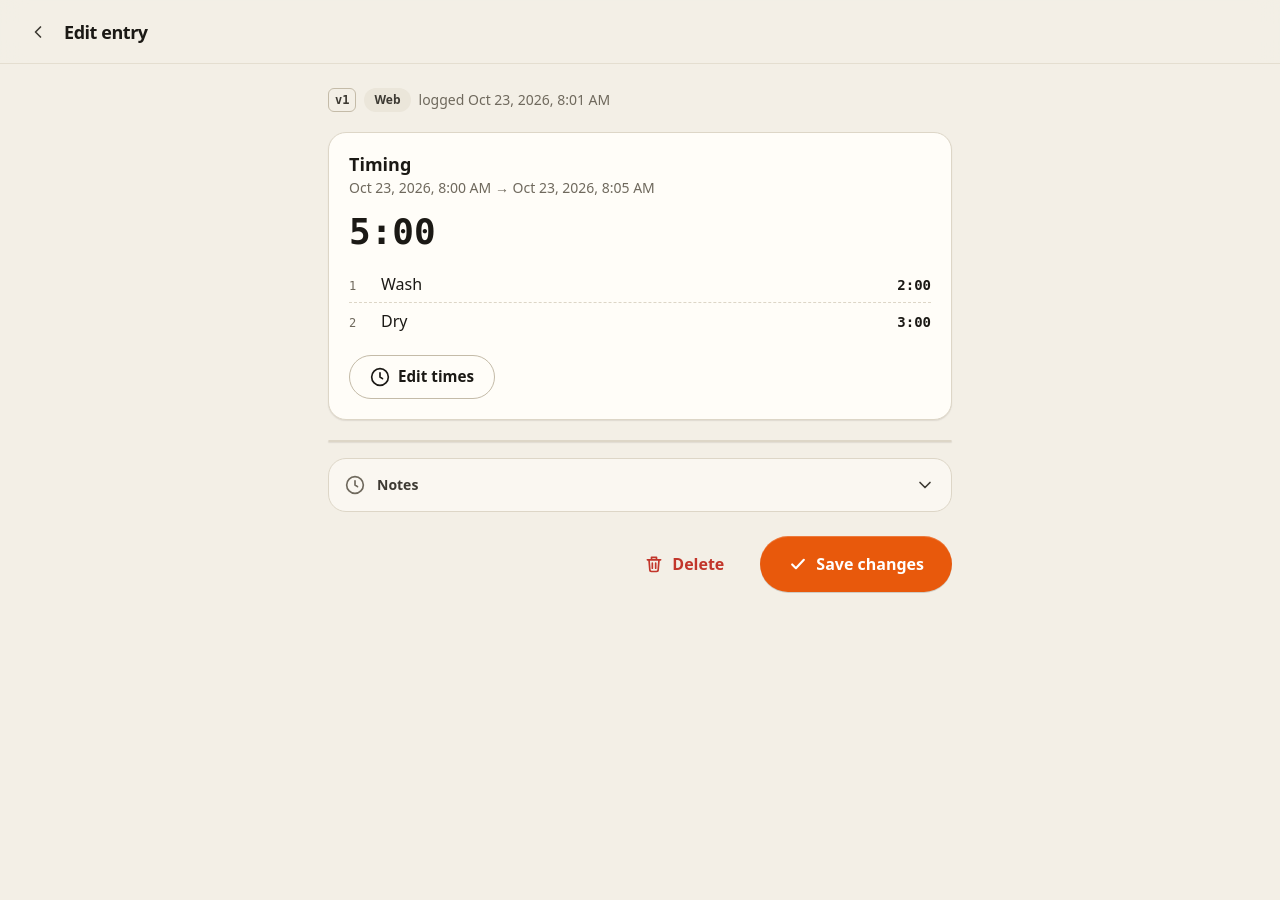
Test: EntryEditPage Edit times › a newer revision fetched while the sheet is open stops saving, with no 409
Expected: the text with test id "run-total" reads "5:00", [349,210,436,252]
Click the button "Edit times": (422, 376) [349,354,495,398]
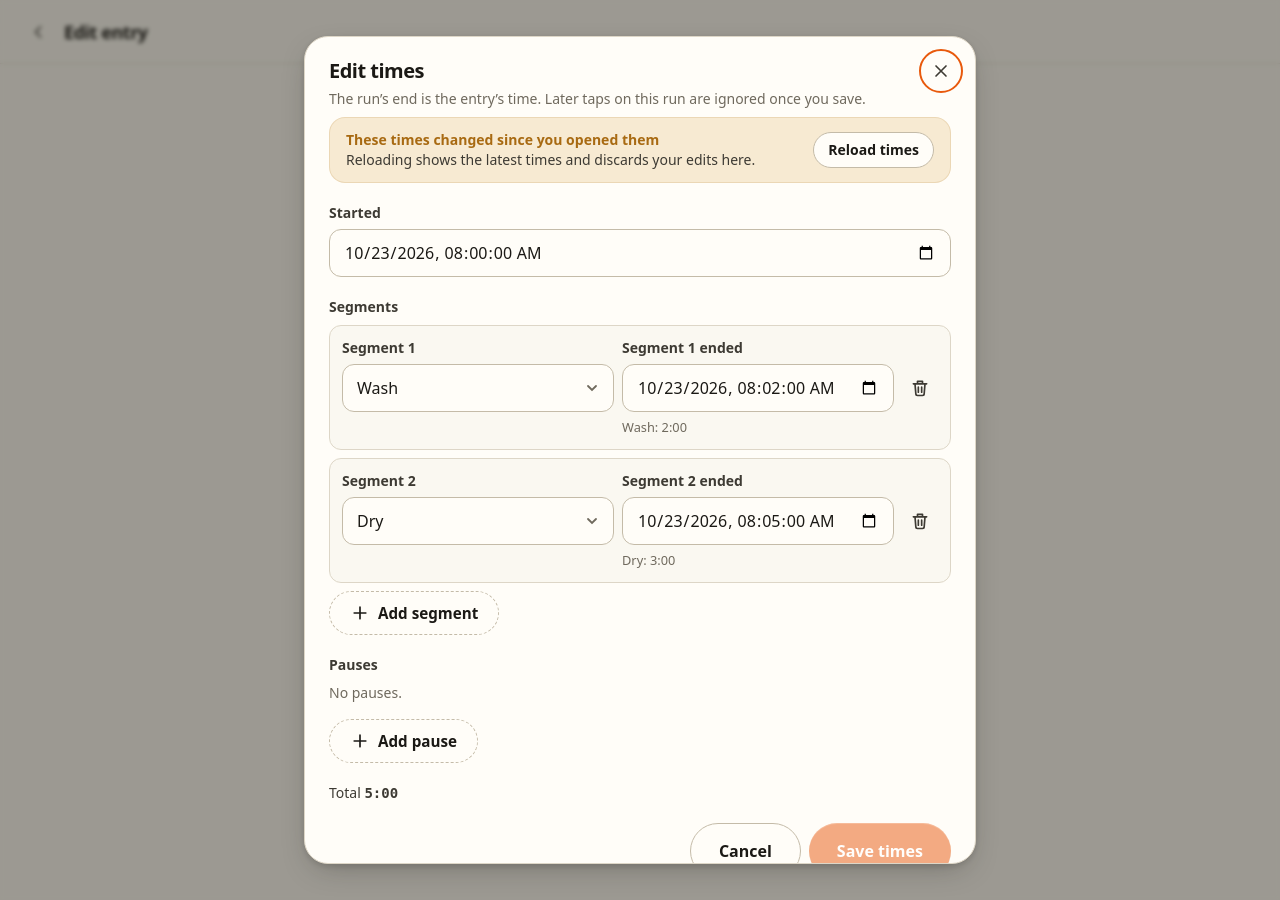
Expected: the text "These times changed since you opened them" is shown, [346,130,659,149]
Expected: the button "Reload times" is shown, [813,132,934,168]
Expected: the button "Save times" is disabled, [809,823,951,864]
